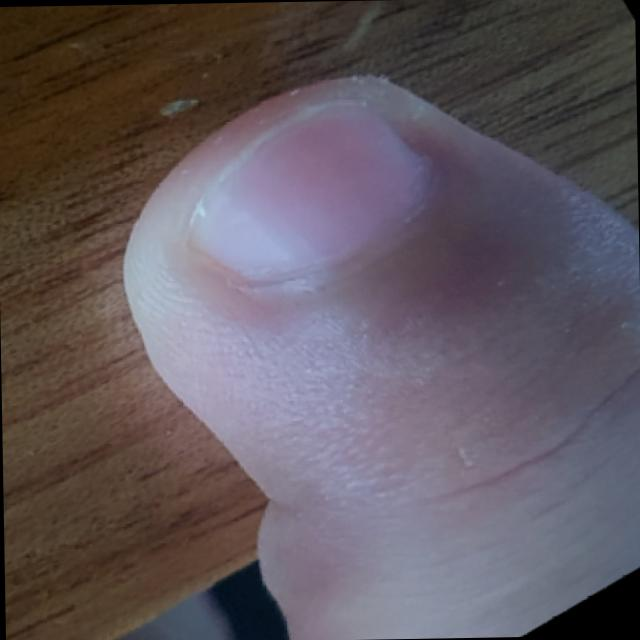Nail: (186, 98, 427, 282)
